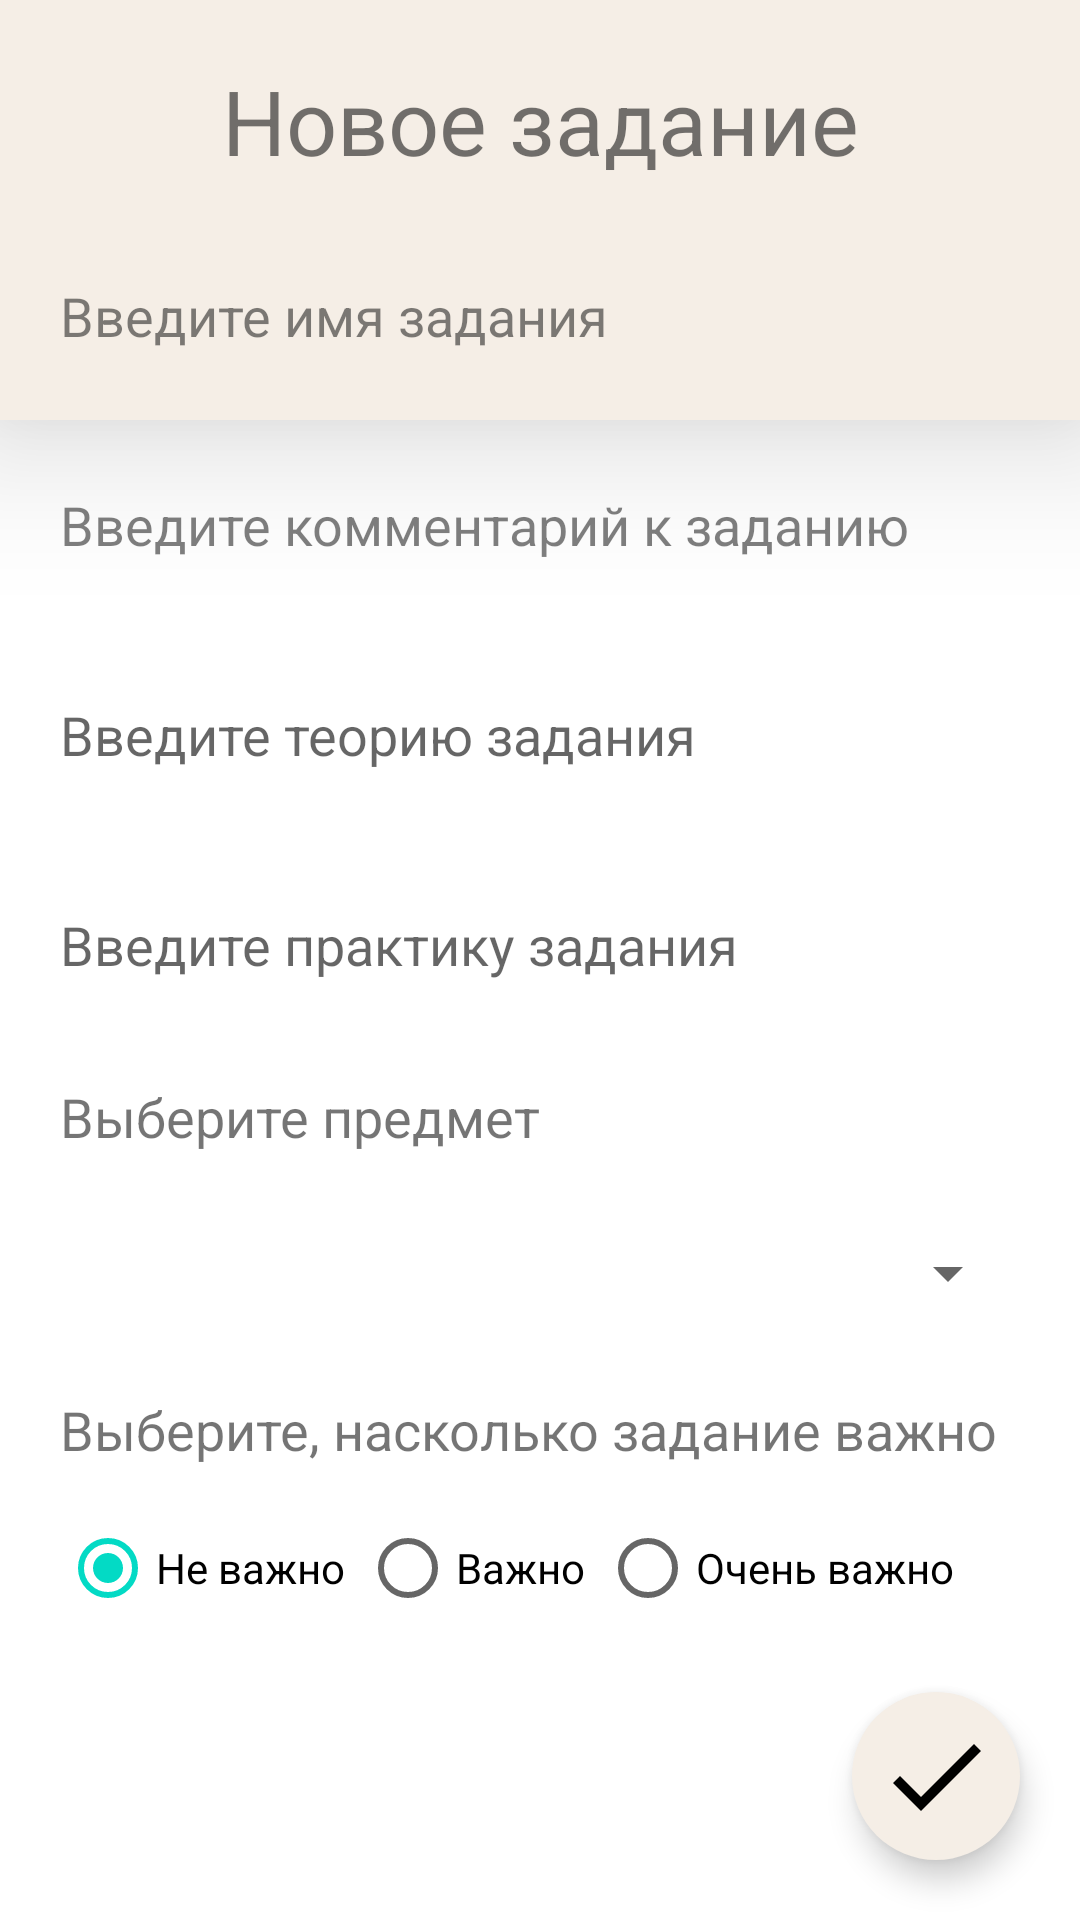

Icon bounding boxes for this 1080w x 1920h phone screenshot, format (x1,y1,x2,y2):
done: (852,1692,1020,1860)
